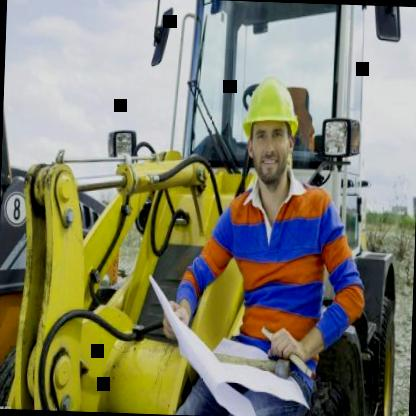helmet: (234, 67, 306, 194)
